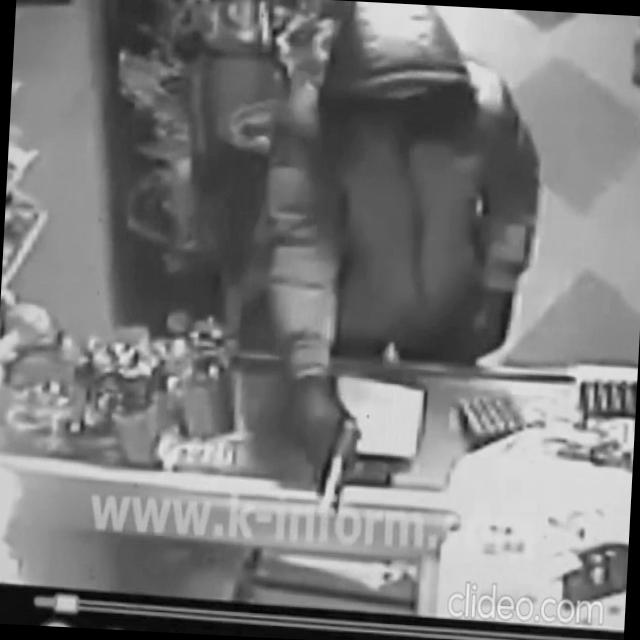gun: (317, 413, 362, 518)
person with a gun: (241, 0, 550, 526)
